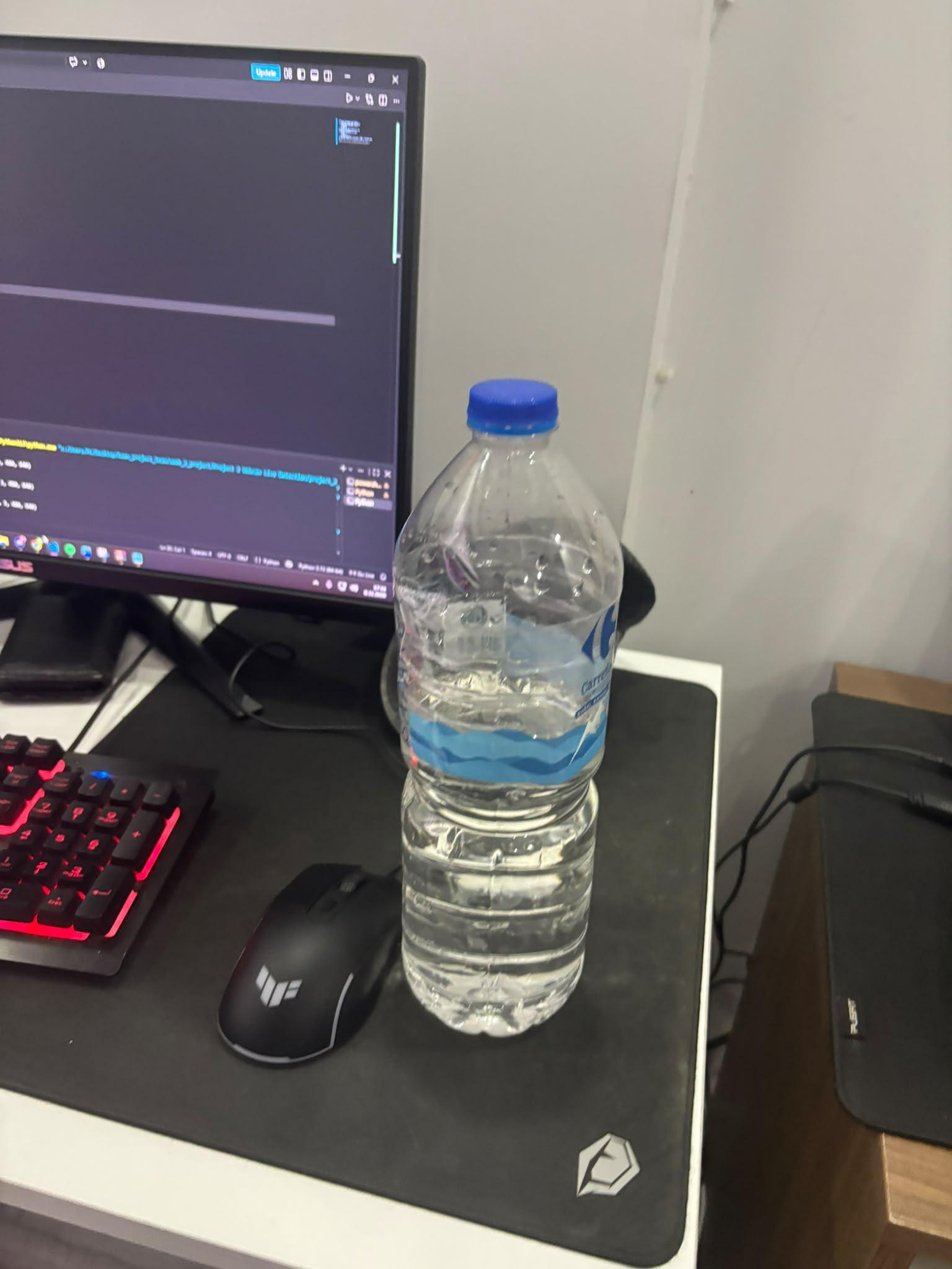cable: (705, 743, 952, 1047), (224, 640, 401, 735), (68, 637, 167, 755)
keyboard: (0, 733, 216, 978)
mouse: (217, 862, 402, 1066)
water bottel: (391, 378, 624, 1039)
